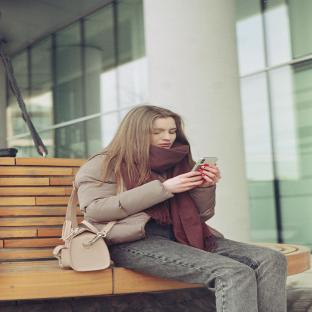Human: (75, 105, 287, 312)
